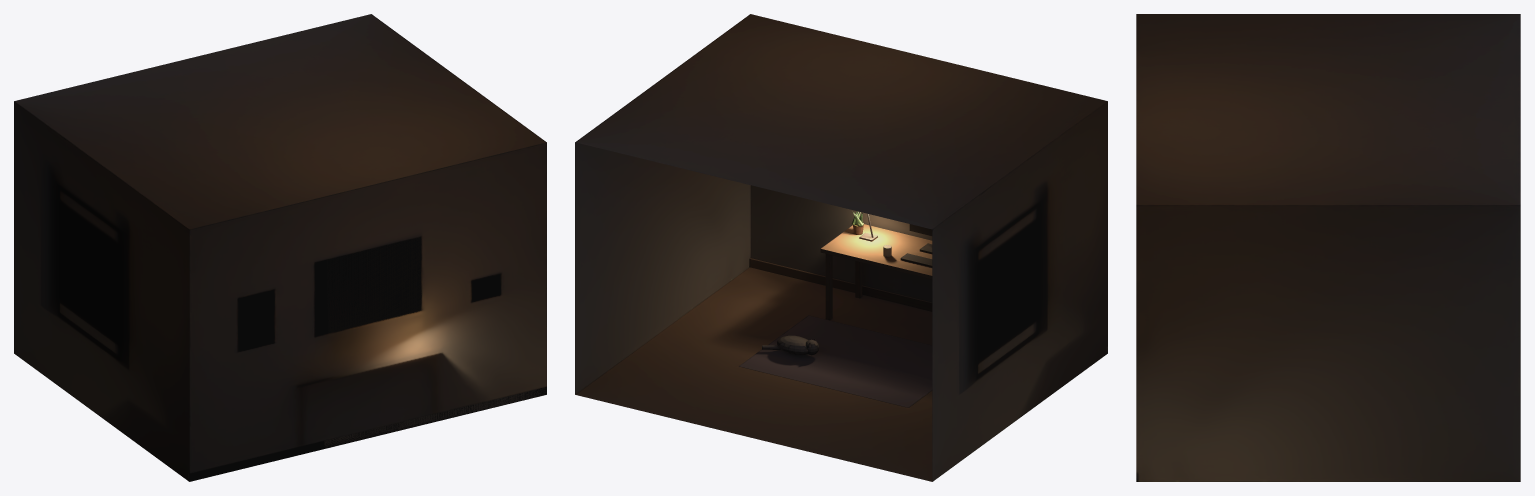
The model's file is room.glb.
3 views of the same model, side by side, from view 1: azimuth 30°, elevation 25°; view 2: azimuth 150°, elevation 25°; view 3: azimuth 270°, elevation 25° (orthographic). The views are drawn at different scales.
Parts seen in each view (by area): view 1: Room; view 2: Room; view 3: Room.
Part boxes in pixels (x1,y1,x2,y2): Room: [14, 14, 546, 481]; Room: [575, 14, 1107, 481]; Room: [1136, 14, 1520, 481].
Bounding box in the file's own units: 4 × 2.7 × 3.4.
1 material, 1 textured.
